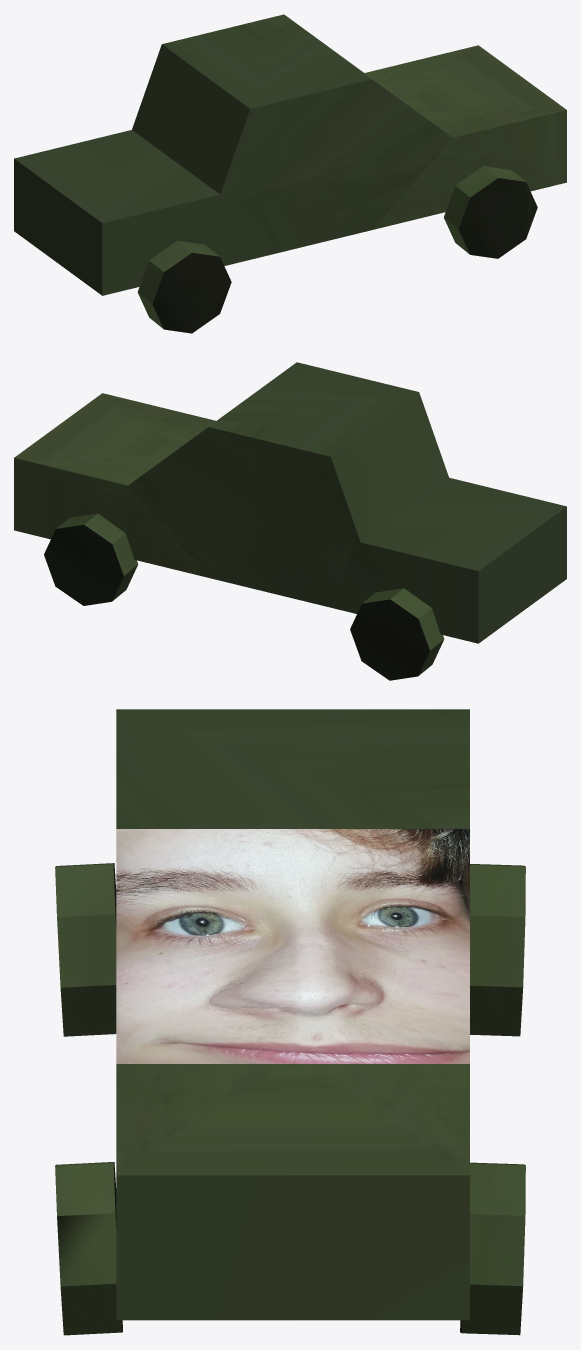
Rendered from new_davmobile.glb.
3 views of the same model, one above another, from view 1: azimuth 30°, elevation 25°; view 2: azimuth 150°, elevation 25°; view 3: azimuth 270°, elevation 25° (orthographic). The views are drawn at different scales.
Parts seen in each view (by area): view 1: body, backrightWheel, frontrightWheel; view 2: body, backleftWheel, frontleftWheel; view 3: body, frontrightWheel, backrightWheel, frontleftWheel, backleftWheel.
Part boxes in pixels (left/top/right/bottom): body: left=14, top=14, right=566, bottom=295; backrightWheel: left=137, top=240, right=231, bottom=333; frontrightWheel: left=444, top=166, right=537, bottom=258; body: left=14, top=362, right=566, bottom=643; backleftWheel: left=350, top=588, right=444, bottom=680; frontleftWheel: left=44, top=513, right=138, bottom=605; body: left=116, top=709, right=469, bottom=1320; frontrightWheel: left=55, top=1162, right=122, bottom=1335; backrightWheel: left=55, top=863, right=116, bottom=1036; frontleftWheel: left=460, top=1162, right=525, bottom=1335; backleftWheel: left=470, top=864, right=525, bottom=1036.
Bounding box in the file's own units: 6.06 × 2.47 × 2.66.
Materials: 1 (1 with a texture image).
